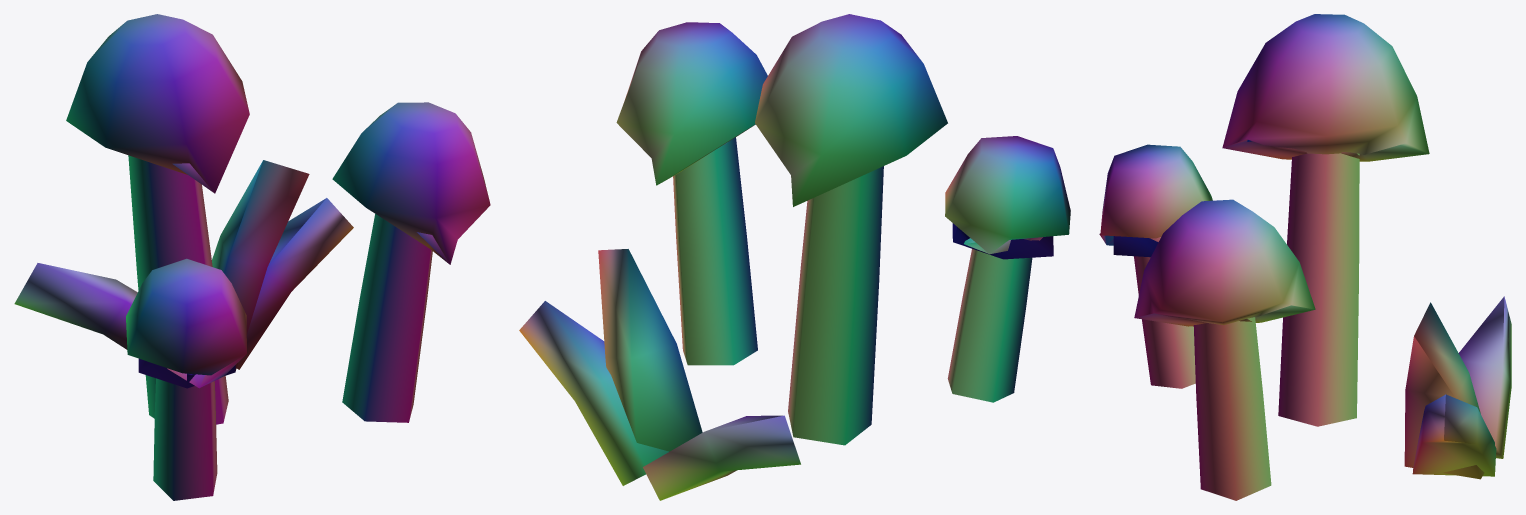
File: SM_Foliage_March_AshCap_A.fbx
The picture shows the model from 3 angles, left to right: view 1: azimuth 30°, elevation 25°; view 2: azimuth 150°, elevation 25°; view 3: azimuth 270°, elevation 25°; orthographic projection. The views are drawn at different scales.
Parts seen in each view (by area): view 1: SM_Foliage_March_AshCap_A; view 2: SM_Foliage_March_AshCap_A; view 3: SM_Foliage_March_AshCap_A.
Part boxes in pixels (bbox=[...]): SM_Foliage_March_AshCap_A: bbox=[14, 14, 490, 500]; SM_Foliage_March_AshCap_A: bbox=[519, 14, 1070, 500]; SM_Foliage_March_AshCap_A: bbox=[1099, 14, 1511, 500].
Bounding box in the file's own units: 0.3144 × 0.3136 × 0.2993.
